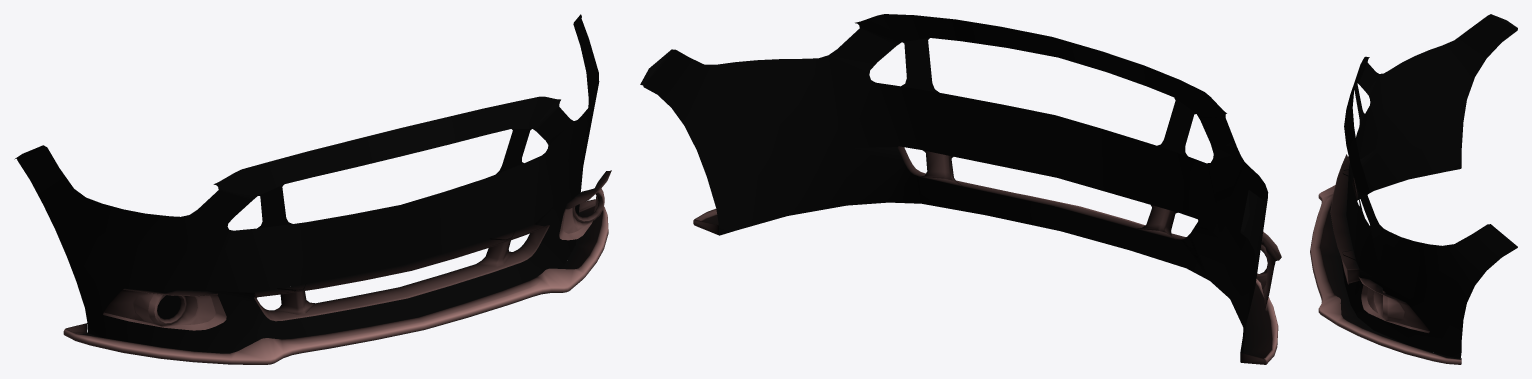
The model's file is Mustang16_FB_01_Trim.fbx.
3 views of the same model, side by side, from view 1: azimuth 30°, elevation 25°; view 2: azimuth 150°, elevation 25°; view 3: azimuth 270°, elevation 25° (orthographic). The views are drawn at different scales.
Visible parts, largest first — view 1: Mustang16_FB_01_Trim; view 2: Mustang16_FB_01_Trim; view 3: Mustang16_FB_01_Trim.
Part boxes in pixels (<box>): Mustang16_FB_01_Trim: <box>14,14,611,364</box>; Mustang16_FB_01_Trim: <box>640,14,1281,364</box>; Mustang16_FB_01_Trim: <box>1310,14,1517,364</box>.
Size of the model in its own units: 183 by 60.66 by 73.14.
